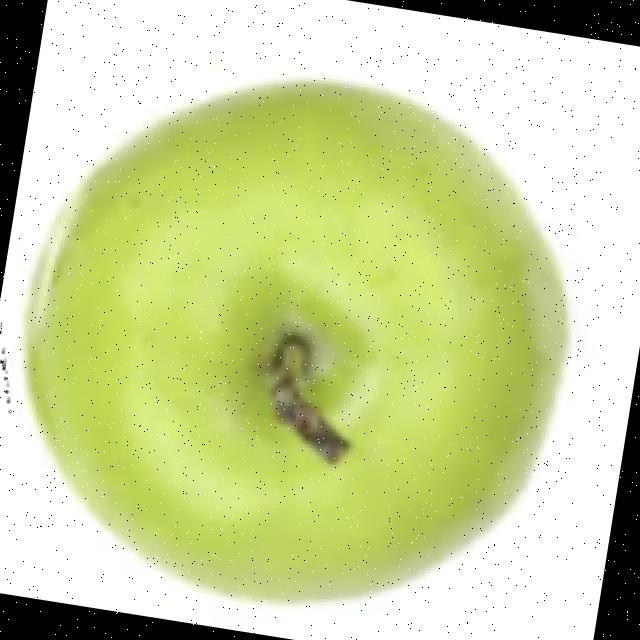apple: (15, 71, 580, 611)
